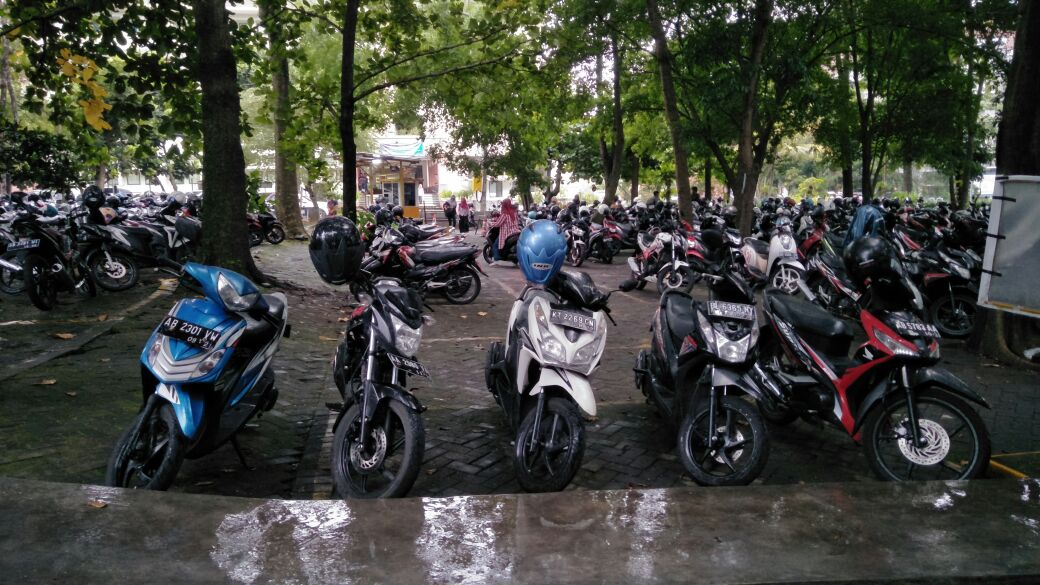plate: (156, 314, 220, 352), (549, 306, 599, 336), (706, 299, 755, 318), (891, 318, 941, 336)
